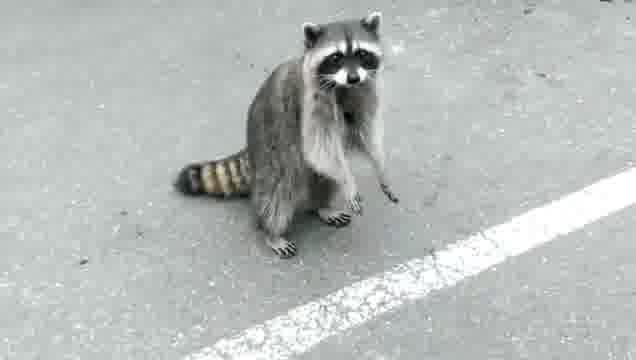raccoon: (177, 14, 402, 258)
